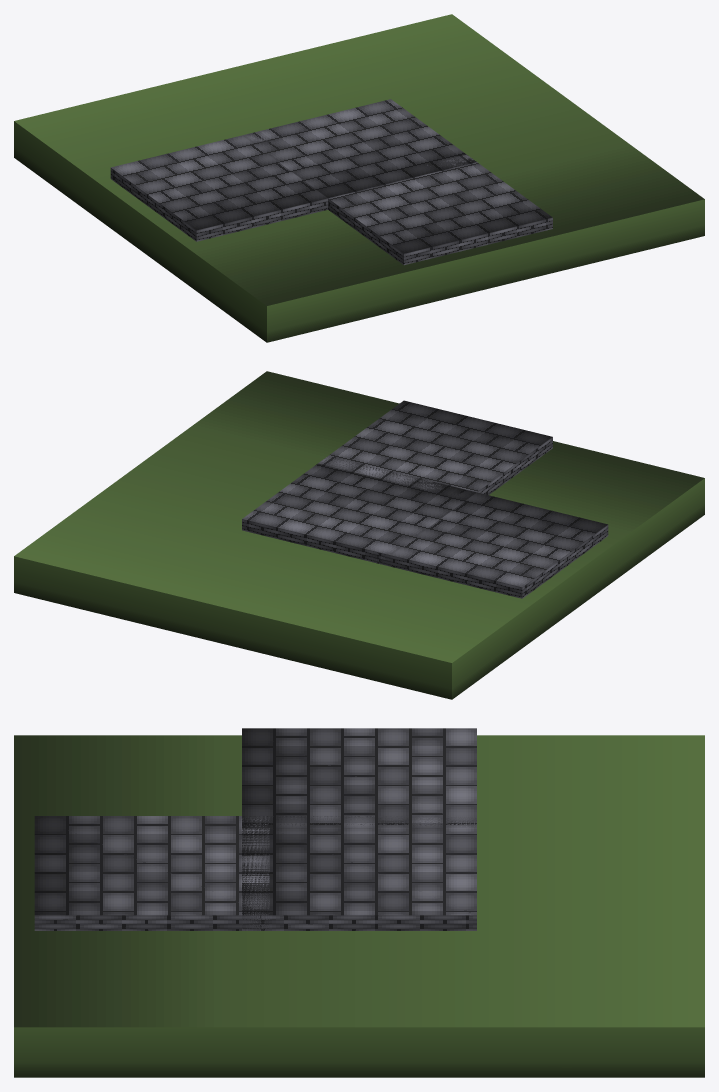
Rendered from path_corner.gltf.
3 views of the same model, one above another, from view 1: azimuth 30°, elevation 25°; view 2: azimuth 150°, elevation 25°; view 3: azimuth 270°, elevation 25° (orthographic). The views are drawn at different scales.
Parts seen in each view (by area): view 1: path_corner; view 2: path_corner; view 3: path_corner.
Boxes of the visible parts, box(x1,y1,x2,y2) form: path_corner: box(14, 14, 704, 342); path_corner: box(14, 371, 704, 699); path_corner: box(14, 728, 704, 1077).
Size of the model in its own units: 1 by 0.105 by 1.
Materials: 1 (1 with a texture image).
